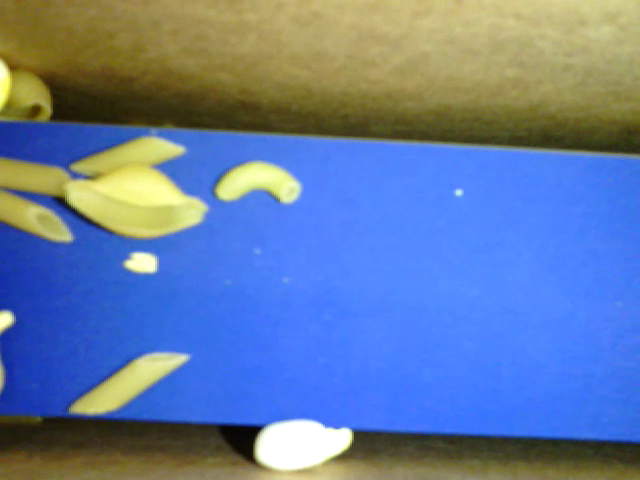elbow: (215, 160, 304, 206)
penne: (70, 349, 189, 414), (71, 133, 185, 177), (2, 191, 72, 247), (3, 159, 70, 199)
shell: (62, 165, 207, 238), (2, 67, 56, 123)
